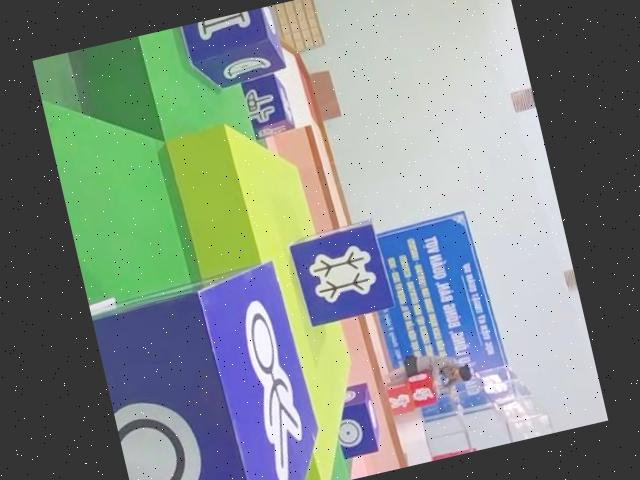R2 Real Blue: (88, 257, 332, 480), (282, 216, 393, 326), (179, 5, 289, 94), (327, 379, 384, 458), (240, 68, 297, 139)
